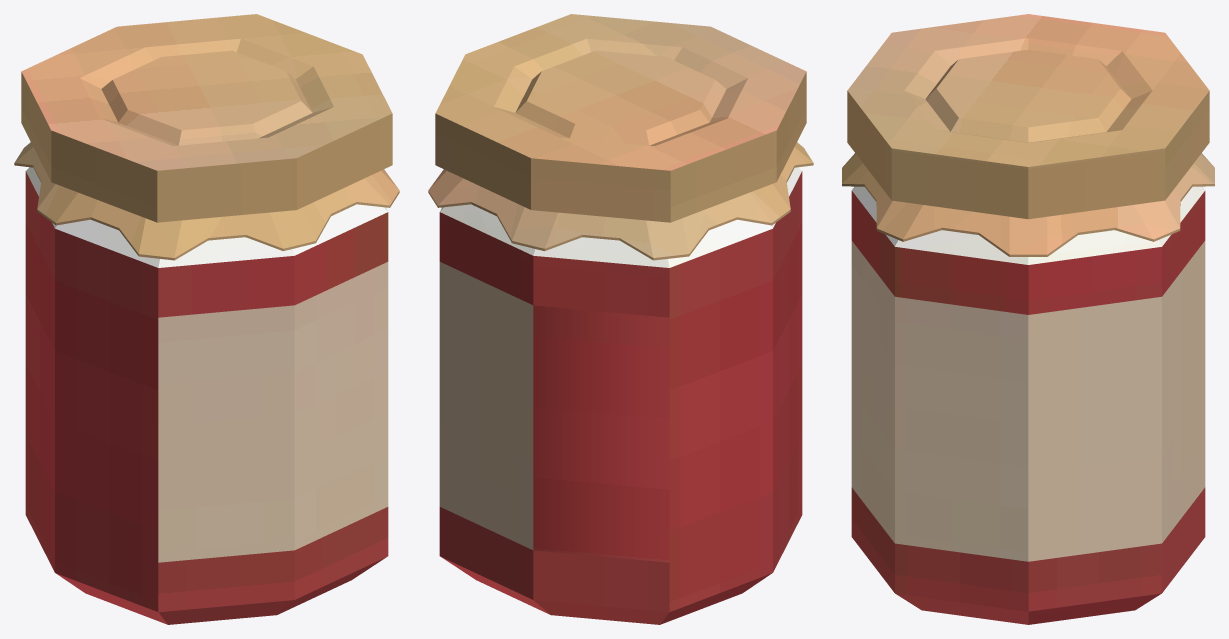
3 renders of one model, left to right at view 1: azimuth 30°, elevation 25°; view 2: azimuth 150°, elevation 25°; view 3: azimuth 270°, elevation 25°, orthographic.
Parts seen in each view (by area): view 1: Cube.013_Cube.041; view 2: Cube.013_Cube.041; view 3: Cube.013_Cube.041.
Part boxes in pixels (x1,y1,x2,y2): Cube.013_Cube.041: (14,14,399,624); Cube.013_Cube.041: (428,14,813,624); Cube.013_Cube.041: (842,14,1214,624).
Size of the model in its own units: 1.29 by 1.81 by 1.29.
Materials: 1 (1 with a texture image).
